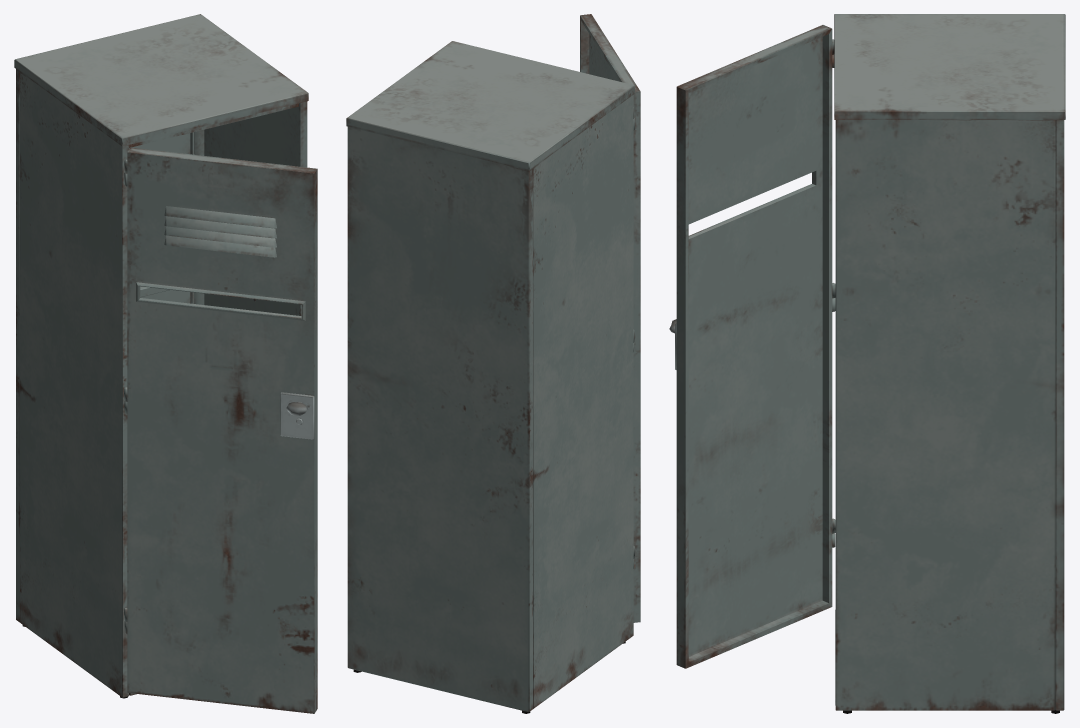
The model's file is rusty_industrial_wardrobe.glb.
The picture shows the model from 3 angles, left to right: view 1: azimuth 30°, elevation 25°; view 2: azimuth 150°, elevation 25°; view 3: azimuth 270°, elevation 25°; orthographic projection. The views are drawn at different scales.
Parts seen in each view (by area): view 1: Object013_MetalBody_0, Base_LP_MetalBody_0, Object015_Metal_0; view 2: Base_LP_MetalBody_0, Object013_MetalBody_0; view 3: Base_LP_MetalBody_0, Object013_MetalBody_0.
Part boxes in pixels (x1,y1,x2,y2): Object013_MetalBody_0: [127, 147, 317, 713]; Base_LP_MetalBody_0: [14, 14, 308, 697]; Object015_Metal_0: [280, 392, 314, 439]; Base_LP_MetalBody_0: [346, 41, 634, 712]; Object013_MetalBody_0: [580, 14, 640, 622]; Base_LP_MetalBody_0: [834, 14, 1065, 710]; Object013_MetalBody_0: [676, 25, 832, 668].
Bounding box in the file's own units: 0.4541 × 1.31 × 0.779.
Materials: 4 (4 with a texture image).
